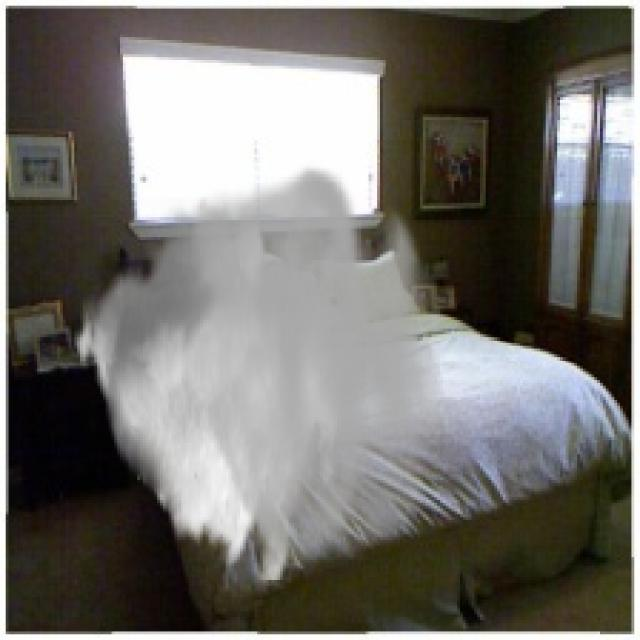smoke: (71, 160, 446, 580)
